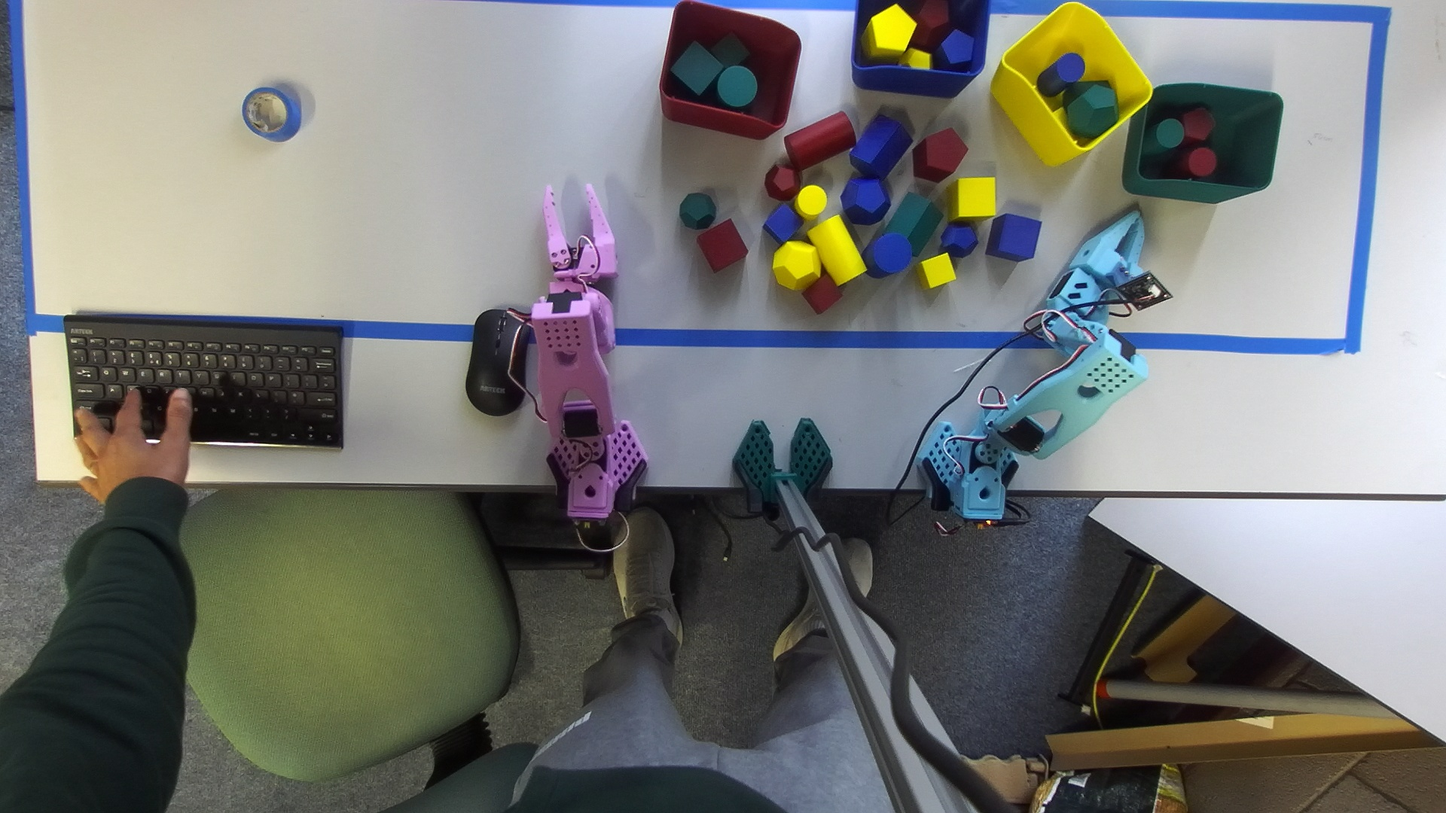bin: (990, 3, 1152, 165), (659, 0, 801, 139), (1122, 84, 1283, 202), (850, 0, 989, 98)
cube: (697, 218, 748, 272), (670, 41, 721, 94), (986, 213, 1041, 261), (944, 177, 996, 221), (762, 203, 802, 244), (803, 272, 841, 313), (915, 253, 955, 288), (711, 34, 749, 66)
cylinder: (784, 111, 856, 170), (807, 215, 865, 285), (863, 233, 912, 277), (1036, 53, 1084, 96), (1164, 147, 1217, 178), (717, 65, 756, 107), (1142, 117, 1184, 154), (794, 184, 826, 220)
dodecahedron: (1064, 81, 1118, 140), (772, 241, 820, 290), (840, 178, 890, 225), (764, 163, 800, 202), (679, 193, 716, 230), (941, 223, 978, 258), (902, 47, 931, 69)
gripper: (542, 183, 616, 283), (1067, 208, 1144, 286)
hexagonal: (850, 112, 911, 178), (886, 192, 942, 252), (862, 4, 917, 62), (912, 128, 968, 182), (910, 0, 950, 52), (935, 29, 974, 72), (1180, 107, 1215, 144)
